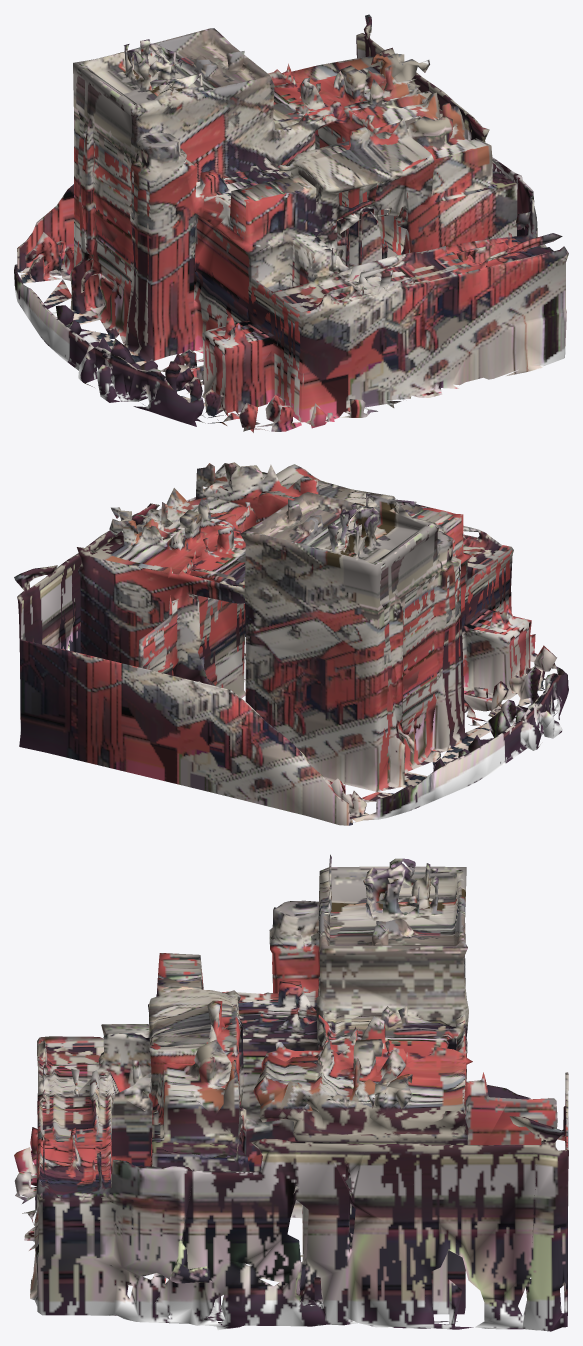
File: render_works.glb
3 renders of one model, top to bottom at view 1: azimuth 30°, elevation 25°; view 2: azimuth 150°, elevation 25°; view 3: azimuth 270°, elevation 25°, orthographic. The views are drawn at different scales.
Visible parts, largest first — view 1: LP_baked; view 2: LP_baked; view 3: LP_baked.
Boxes of the visible parts, x1,y1,x2,y2 form: LP_baked: [14, 14, 568, 432]; LP_baked: [14, 462, 568, 825]; LP_baked: [14, 854, 568, 1331].
Bounding box in the file's own units: 1.97 × 1.21 × 1.95.
Materials: 1 (1 with a texture image).
